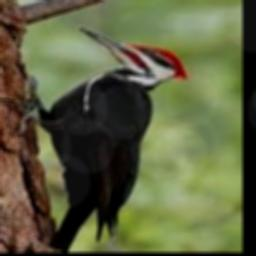Woodpecker: (6, 26, 188, 251)
